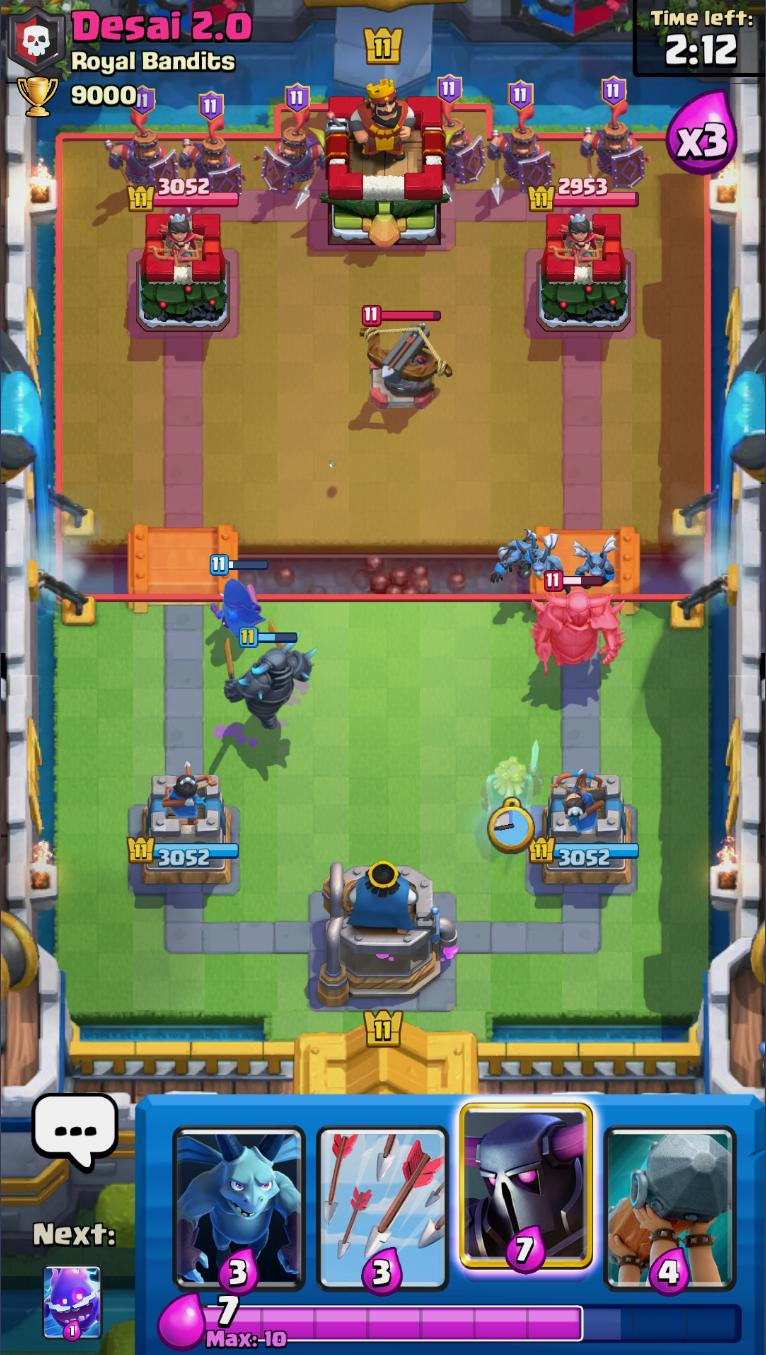ArrowDeck: (311, 1099, 454, 1296)
BattleRamDeck: (599, 1094, 741, 1296)
ElectroSpiritNext: (41, 1263, 103, 1343)
Elixir: (201, 1296, 741, 1351)
EnemyTower: (136, 211, 234, 331), (538, 209, 632, 333), (129, 178, 239, 212), (529, 178, 640, 211)
EvoRoyalRecruit: (259, 85, 327, 208), (489, 79, 555, 205), (581, 76, 652, 192), (102, 86, 178, 194), (179, 90, 248, 195), (436, 75, 487, 201)
KingTower: (311, 79, 459, 246)
MinionsDeck: (164, 1096, 313, 1294)
MyBandit: (209, 553, 273, 638)
MyKingTower: (317, 860, 460, 1007)
MyMinion: (520, 533, 569, 586), (571, 534, 620, 587), (491, 529, 536, 584)
MyPekka: (223, 625, 314, 732)
MyPrincessTower: (129, 771, 240, 889), (531, 773, 639, 889)
MyPrincessTowerHP: (126, 836, 241, 867), (531, 835, 640, 866)
MyRoyaleGhost: (486, 740, 544, 813)
Pekka: (531, 571, 624, 674)
PekkaDeck: (456, 1096, 597, 1294)
PrincessTower: (550, 211, 605, 264), (149, 213, 204, 264)
XBow: (354, 303, 457, 409)
